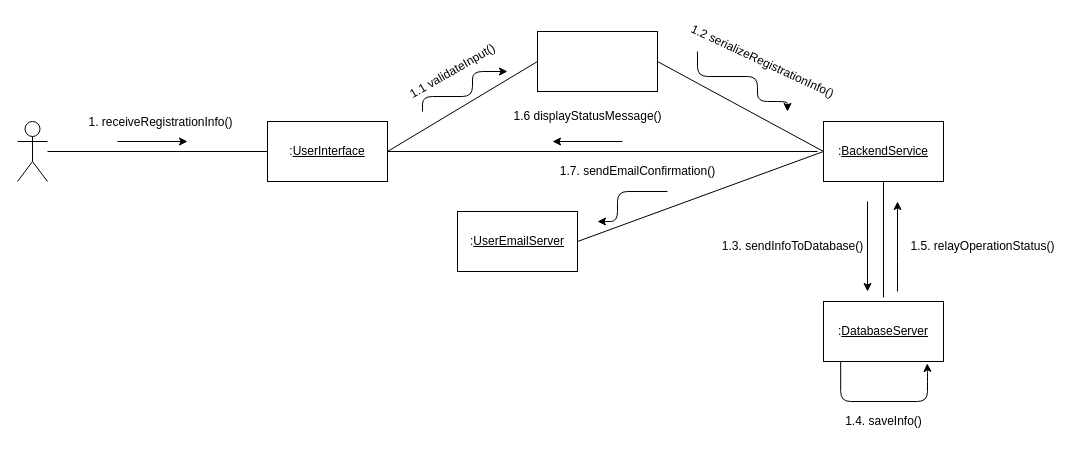
Image size: 1080x449. Some labels were removed from this diagram. The shapes that lost their labels are listed below. From the top down, each one's centre as x and y in pixels, then its label:
At (597,61): ":InputValidator".
At (32,151): "User".
